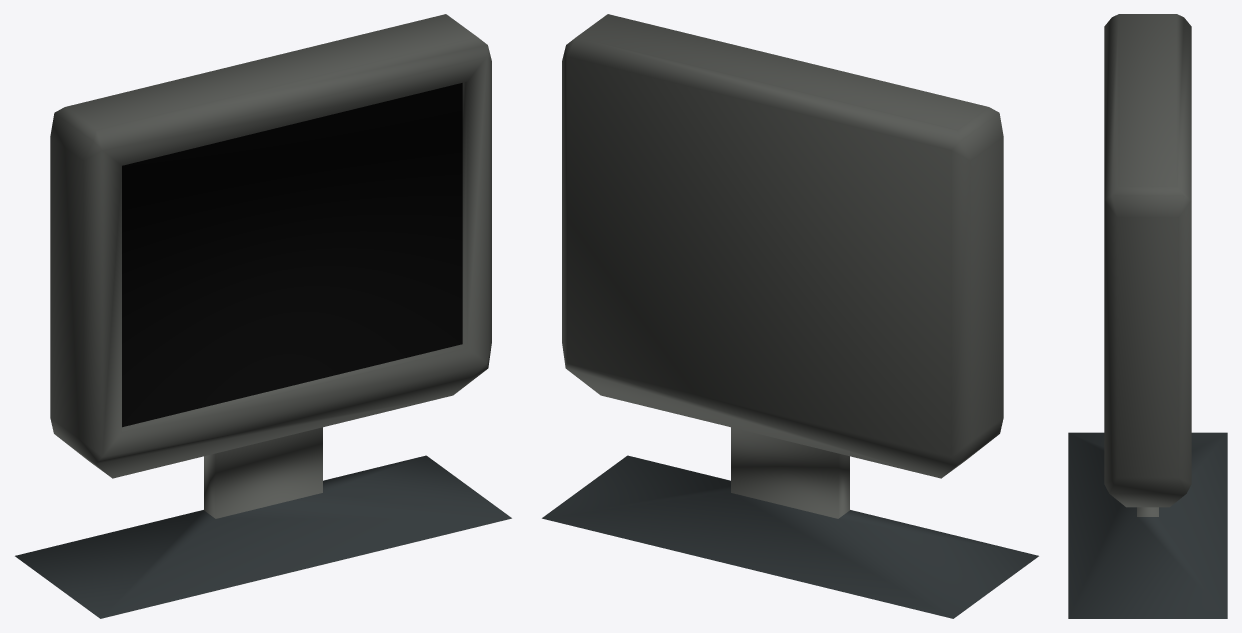
Rendered from monitor.obj.
3 renders of one model, left to right at view 1: azimuth 30°, elevation 25°; view 2: azimuth 150°, elevation 25°; view 3: azimuth 270°, elevation 25°, orthographic. The views are drawn at different scales.
Parts seen in each view (by area): view 1: Monitor; view 2: Monitor; view 3: Monitor.
Part boxes in pixels (x1=…): Monitor: x1=15, y1=14, x2=511, y2=618; Monitor: x1=542, y1=14, x2=1038, y2=618; Monitor: x1=1068, y1=14, x2=1227, y2=618.
Size of the model in its own units: 1.23 by 1.3 by 0.4378.
